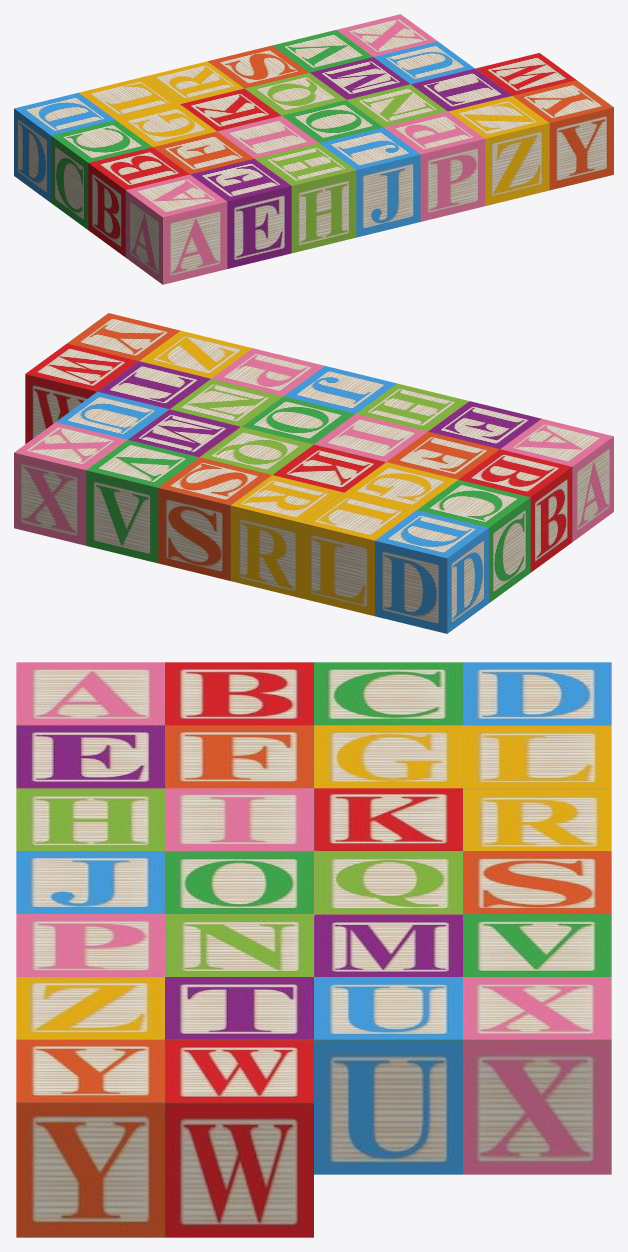
The model's file is alphabet block.fbx.
The picture shows the model from 3 angles, top to bottom: view 1: azimuth 30°, elevation 25°; view 2: azimuth 150°, elevation 25°; view 3: azimuth 270°, elevation 25°; orthographic projection. The views are drawn at different scales.
Visible parts, largest first — view 1: Block_A, Block_H, Block_J, Block_Z, Block_E, Block_P, Block_Y, Block_B, Block_C, Block_D, Block_K, Block_R (+14 smaller); view 2: Block_D, Block_R, Block_X, Block_L, Block_S, Block_V, Block_B, Block_A, Block_C, Block_W, Block_P, Block_E (+14 smaller); view 3: Block_Y, Block_W, Block_U, Block_X, Block_A, Block_B, Block_C, Block_D, Block_E, Block_F, Block_G, Block_L (+14 smaller).
Boxes of the visible parts, left/top/right/bottom form: Block_A: left=125, top=174, right=227, bottom=284; Block_H: left=255, top=143, right=356, bottom=253; Block_J: left=319, top=127, right=420, bottom=237; Block_Z: left=448, top=96, right=549, bottom=205; Block_E: left=190, top=158, right=291, bottom=268; Block_P: left=384, top=111, right=484, bottom=221; Block_Y: left=512, top=80, right=613, bottom=190; Block_B: left=88, top=147, right=189, bottom=257; Block_C: left=51, top=120, right=152, bottom=229; Block_D: left=14, top=92, right=114, bottom=202; Block_K: left=180, top=88, right=281, bottom=131; Block_R: left=143, top=61, right=244, bottom=104; Block_D: left=375, top=510, right=488, bottom=633; Block_R: left=230, top=475, right=343, bottom=598; Block_X: left=14, top=422, right=127, bottom=545; Block_L: left=302, top=492, right=416, bottom=616; Block_S: left=158, top=457, right=271, bottom=580; Block_V: left=86, top=440, right=199, bottom=563; Block_B: left=458, top=449, right=572, bottom=572; Block_A: left=500, top=419, right=613, bottom=541; Block_C: left=417, top=480, right=530, bottom=602; Block_W: left=25, top=343, right=138, bottom=443; Block_P: left=211, top=348, right=324, bottom=396; Block_E: left=428, top=401, right=541, bottom=448; Block_Y: left=16, top=1039, right=164, bottom=1237; Block_W: left=165, top=1039, right=313, bottom=1237; Block_U: left=314, top=977, right=462, bottom=1174; Block_X: left=463, top=977, right=611, bottom=1174; Block_A: left=16, top=662, right=164, bottom=725; Block_B: left=165, top=662, right=313, bottom=725; Block_C: left=314, top=662, right=462, bottom=725; Block_D: left=463, top=662, right=611, bottom=725; Block_E: left=16, top=725, right=164, bottom=788; Block_F: left=165, top=725, right=313, bottom=788; Block_G: left=314, top=725, right=462, bottom=788; Block_L: left=463, top=725, right=611, bottom=788.
Size of the model in its own units: 700 by 100 by 400.
1 material, 1 textured.
